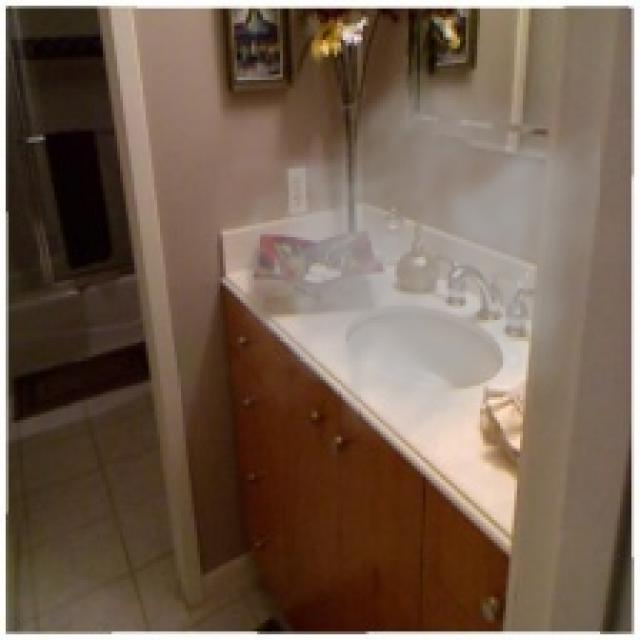smoke: (194, 48, 600, 463)
